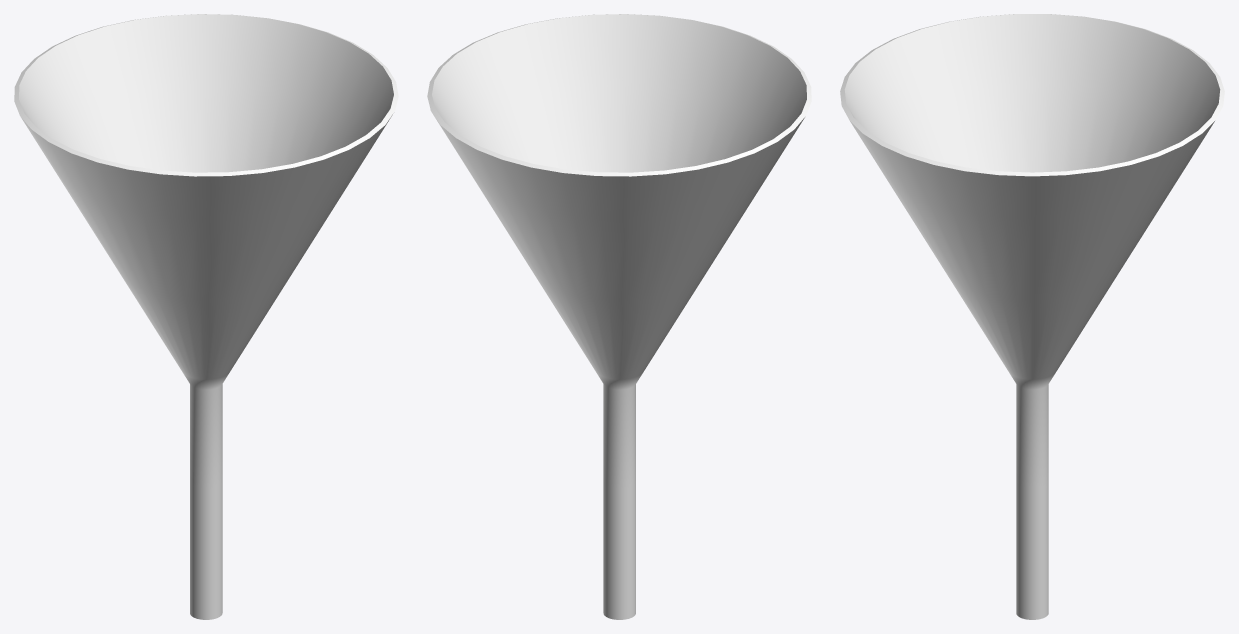
The model's file is glass_funnel.glb.
3 views of the same model, side by side, from view 1: azimuth 30°, elevation 25°; view 2: azimuth 150°, elevation 25°; view 3: azimuth 270°, elevation 25° (orthographic).
Parts seen in each view (by area): view 1: glass_funnel1; view 2: glass_funnel1; view 3: glass_funnel1.
Part boxes in pixels (box(x1,y1,x2,y2)): glass_funnel1: box(14, 14, 398, 619); glass_funnel1: box(427, 14, 811, 619); glass_funnel1: box(840, 14, 1224, 619).
Bounding box in the file's own units: 0.111 × 0.1656 × 0.1111.
Materials: 1 (1 with a texture image).
